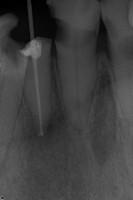Furcation Involvement: (17, 100, 88, 200), (90, 66, 116, 168)
